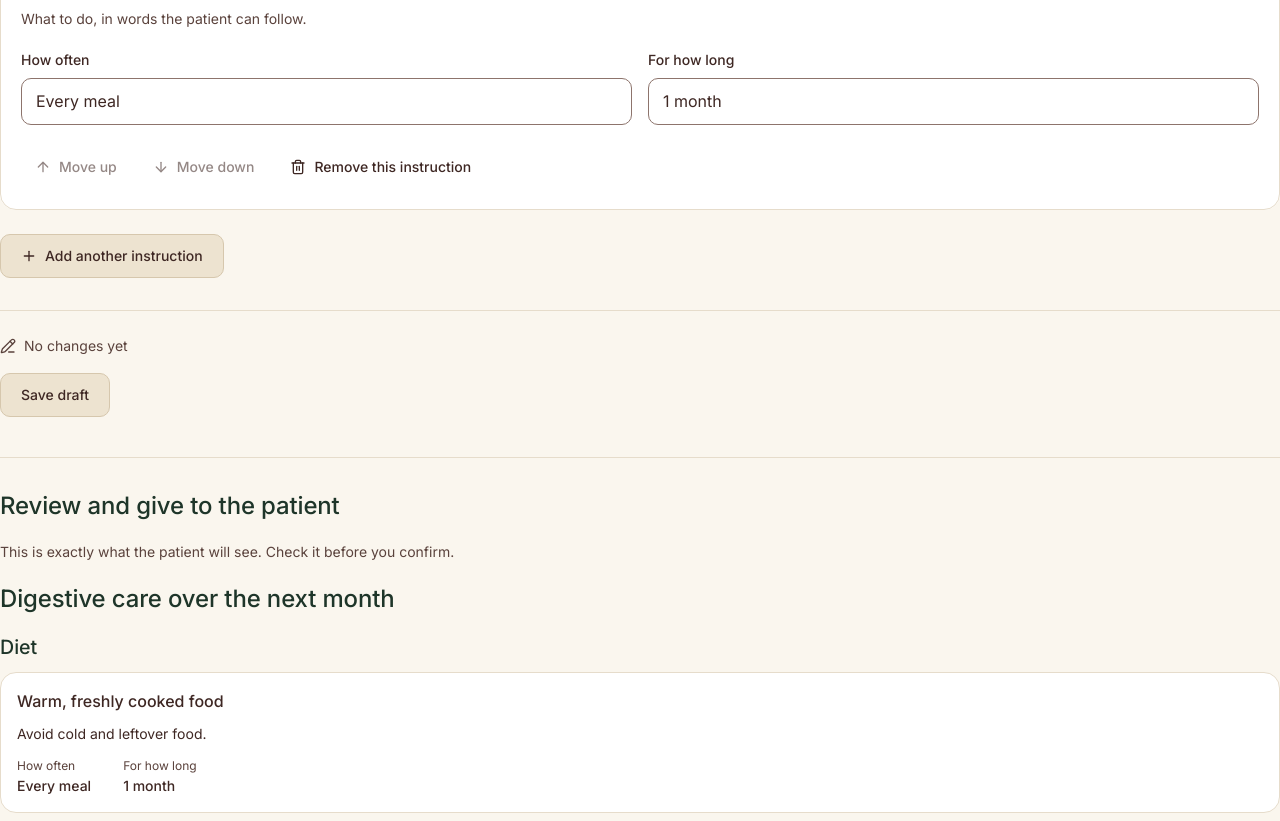
the save state › never says saved when the server refused
The width and height of the screenshot is (1280, 821).
(page scrolled)
Click the button "Save draft": (55, 395) [0, 373, 110, 417]
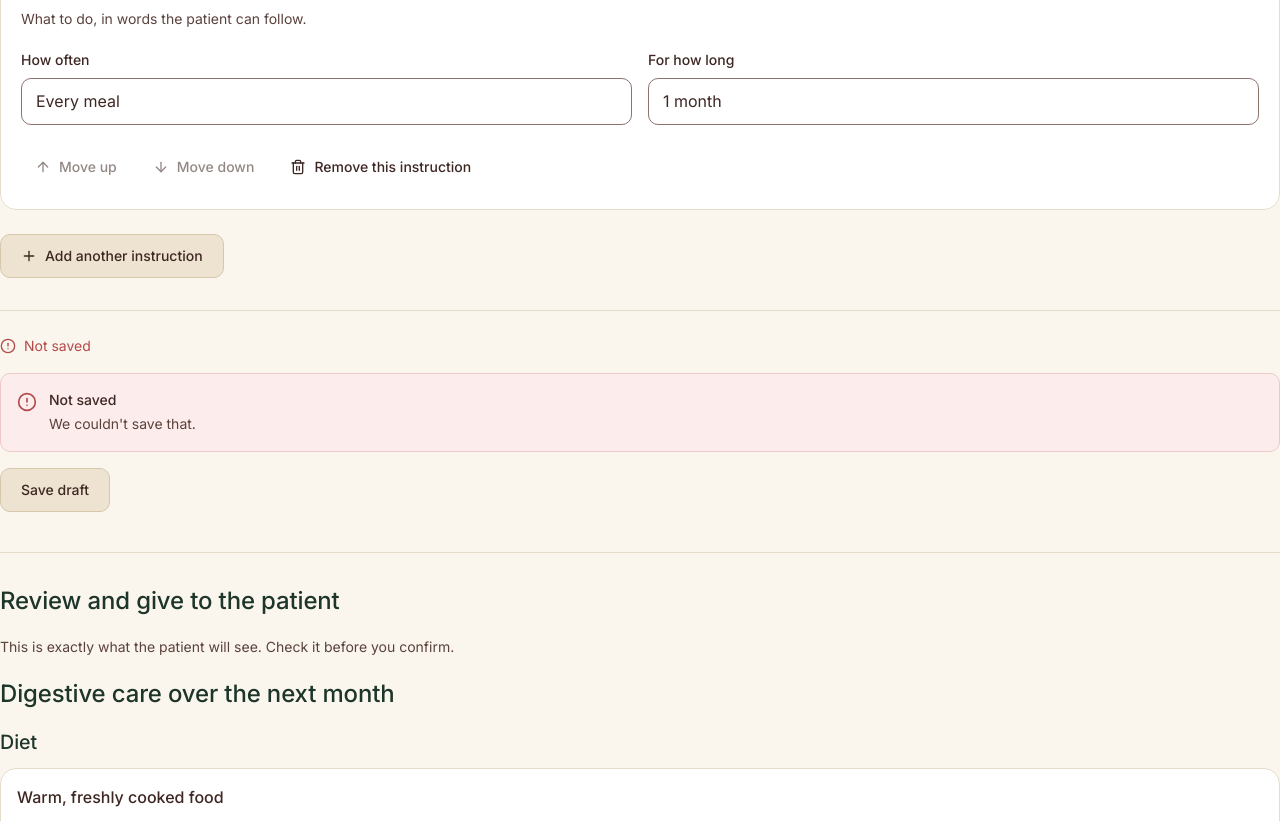
Now the message named "Save status" reads "Not saved", box [24, 337, 91, 354]
